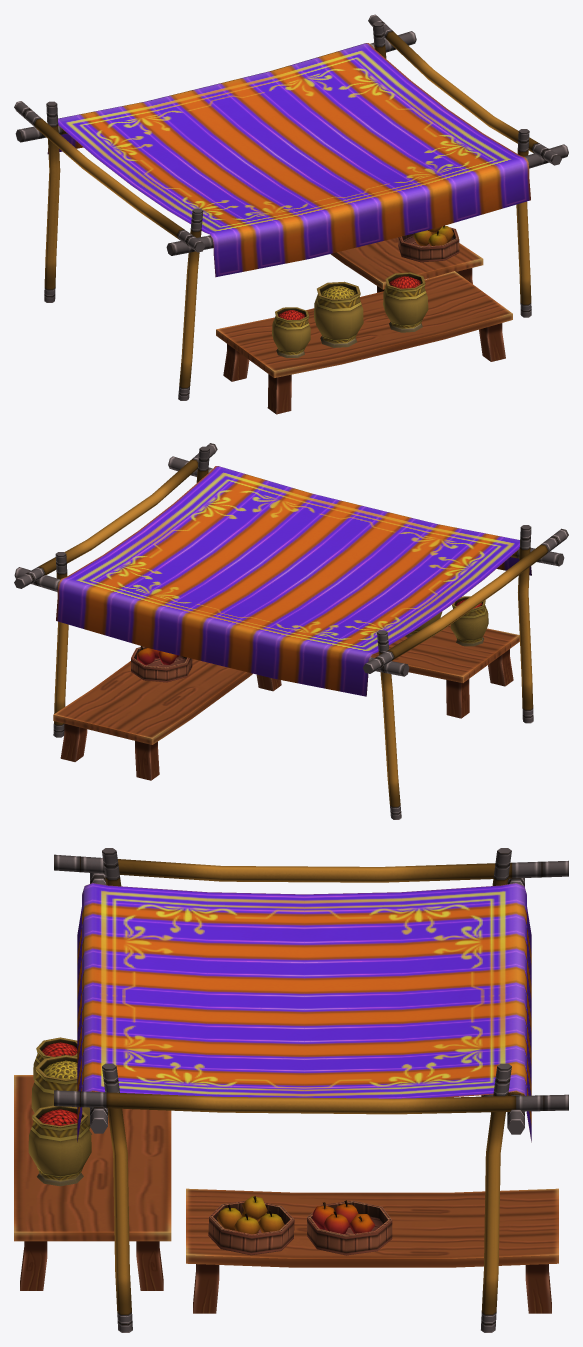
Rendered from Market_02.FBX.
3 renders of one model, top to bottom at view 1: azimuth 30°, elevation 25°; view 2: azimuth 150°, elevation 25°; view 3: azimuth 270°, elevation 25°, orthographic. The views are drawn at different scales.
Parts seen in each view (by area): view 1: Market_02; view 2: Market_02; view 3: Market_02.
Boxes of the visible parts, box(x1,y1,x2,y2) form: Market_02: box(14, 14, 568, 414); Market_02: box(14, 443, 568, 819); Market_02: box(14, 848, 568, 1332).
Size of the model in its own units: 171 by 78.63 by 153.
